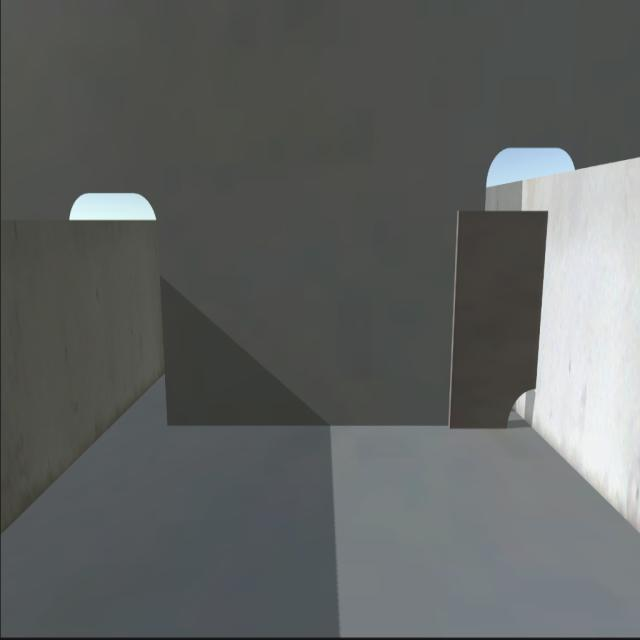fillet_hole: (501, 378, 540, 432)
fillet_yong_jeop_jang: (160, 412, 511, 441)
longi_yong_jeop_jang: (532, 208, 559, 389)
plate_CP01: (452, 210, 540, 434)
